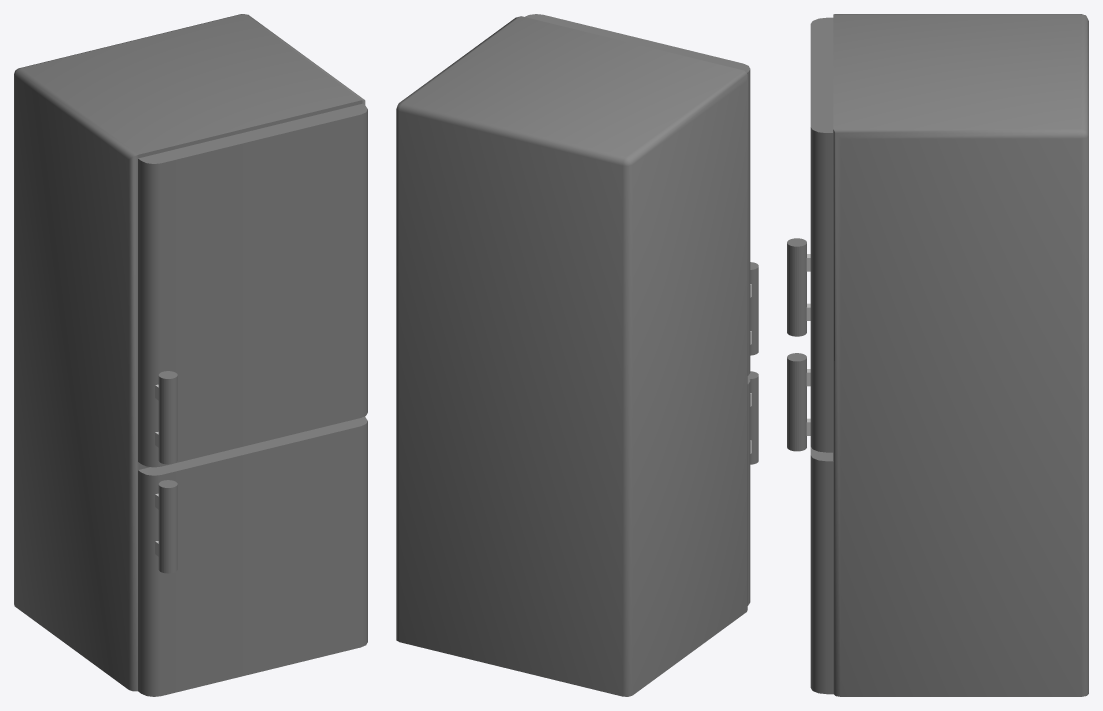
Rendered from Refrigerator.fbx.
3 renders of one model, left to right at view 1: azimuth 30°, elevation 25°; view 2: azimuth 150°, elevation 25°; view 3: azimuth 270°, elevation 25°, orthographic. The views are drawn at different scales.
Visible parts, largest first — view 1: Refrigerator; view 2: Refrigerator; view 3: Refrigerator.
Part boxes in pixels (x1,y1,x2,y2): Refrigerator: (14,14,367,696); Refrigerator: (396,14,758,696); Refrigerator: (787,14,1088,696).
Size of the model in its own units: 195 by 424 by 205.
